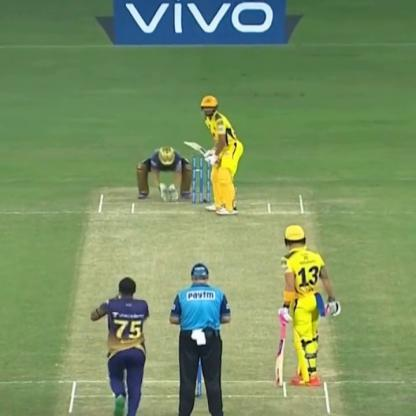bat: (272, 314, 294, 388), (179, 133, 220, 169)
pitch: (60, 188, 334, 416)
